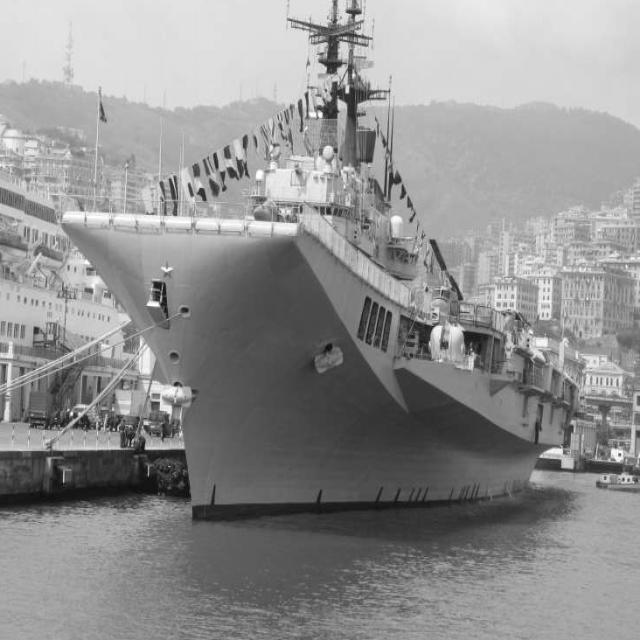Portanaves: (62, 1, 590, 530)
